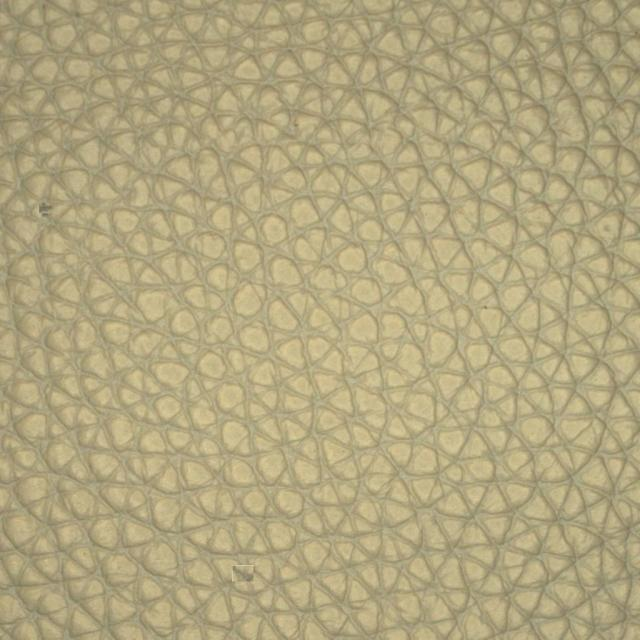pinhole: (16, 134, 146, 284), (183, 492, 321, 633)
